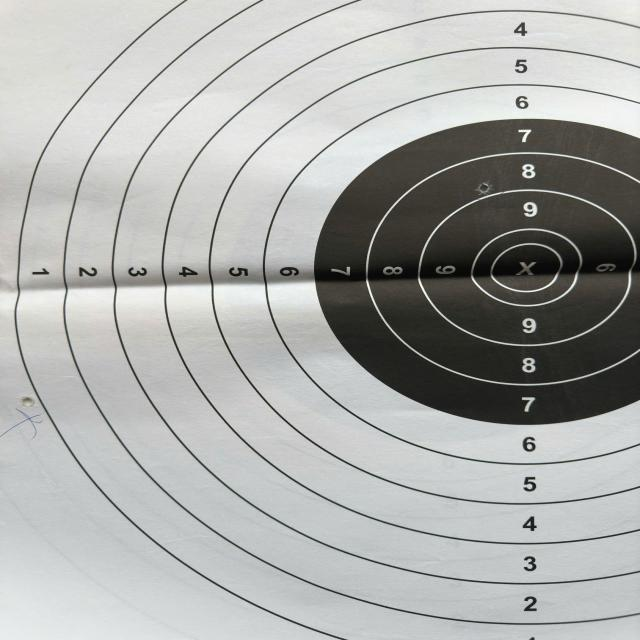bullet: (476, 181, 493, 195), (21, 397, 34, 407)
target: (0, 0, 640, 640)
